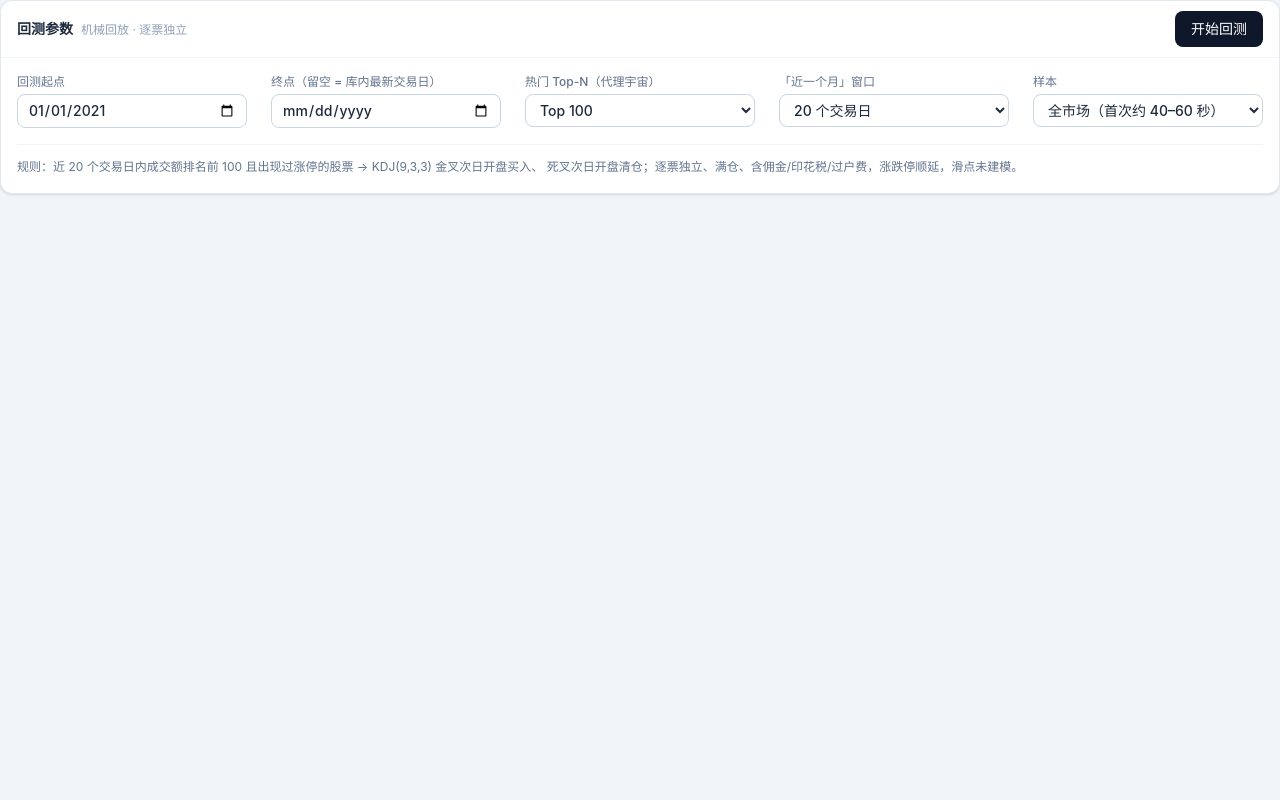
Scenario: BacktestPanel › 点开始回测：请求带上参数，结果渲染指标、边界与两端个股
This screenshot has width=1280, height=800.
Click the button "开始回测". click: (1219,29)
box: 1175,11 -> 1263,47
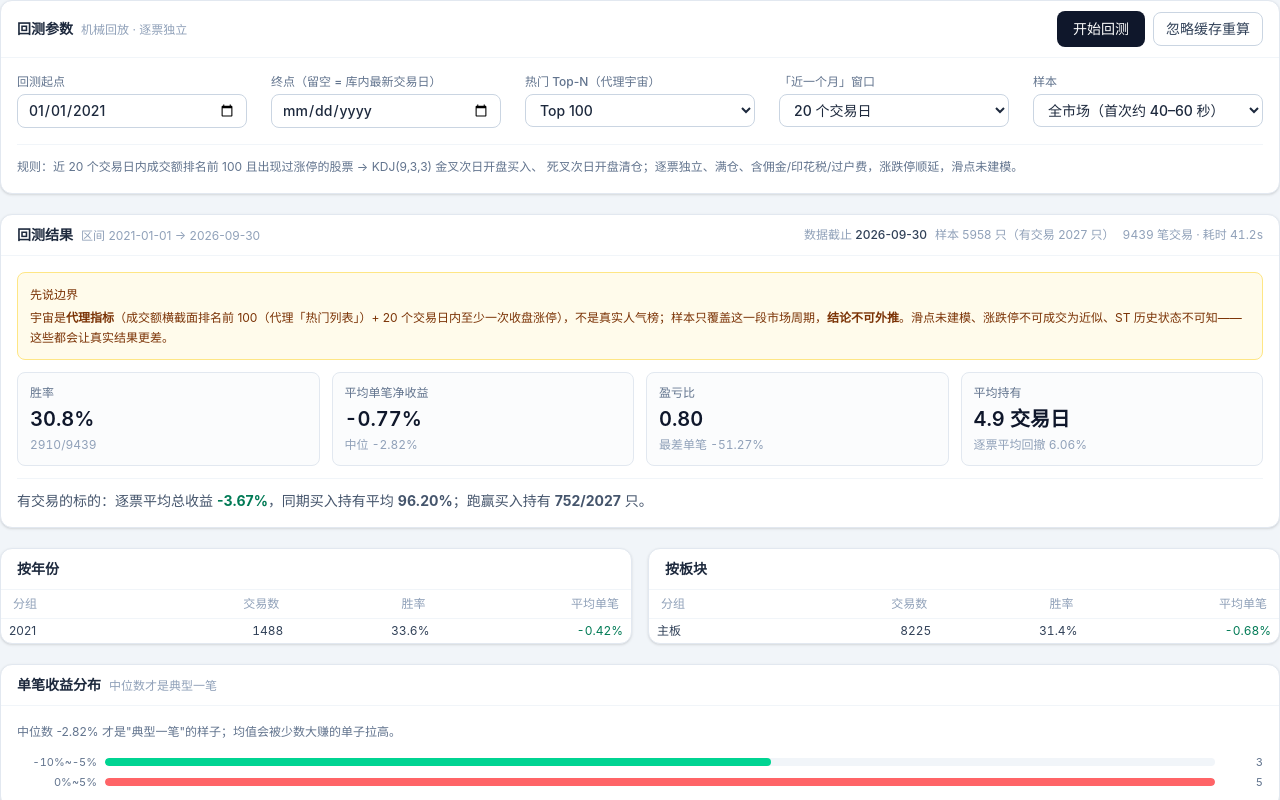
Expected: the text "30.8%" is shown, 30,407 -> 94,431
Expected: the text "代理指标" is shown, 66,310 -> 114,325
Expected: the text "结论不可外推" is shown, 827,310 -> 899,325
